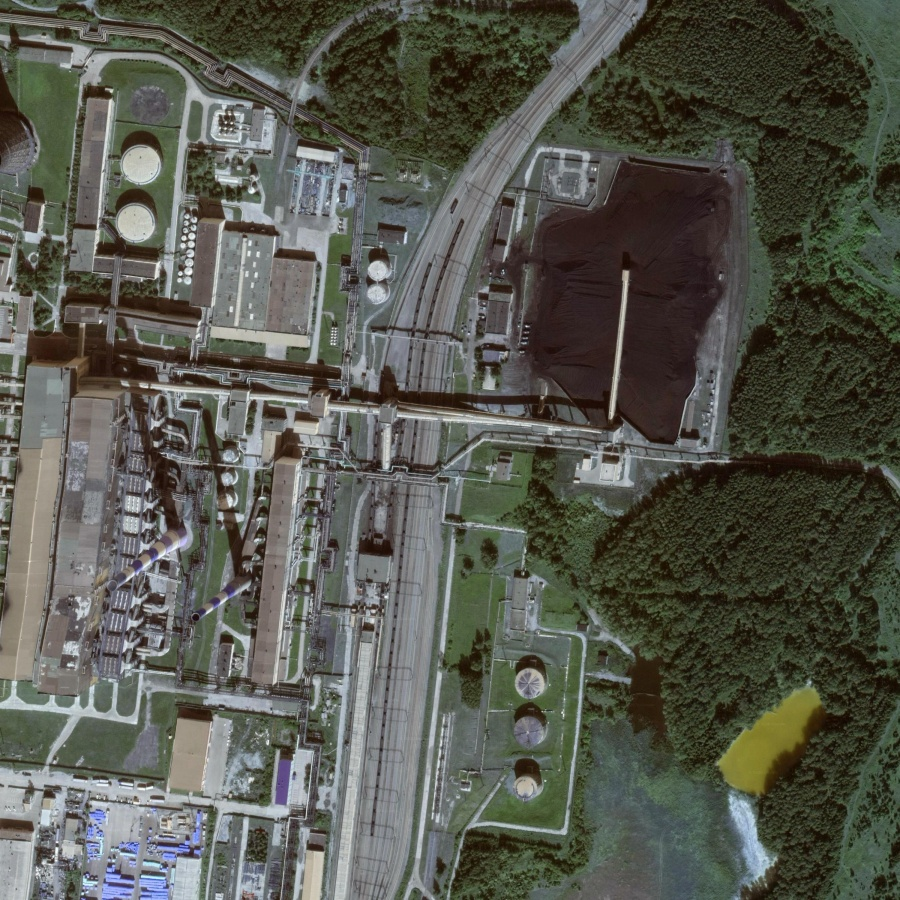PowerPlant: (462, 140, 732, 454), (76, 324, 330, 652), (436, 641, 584, 816)
